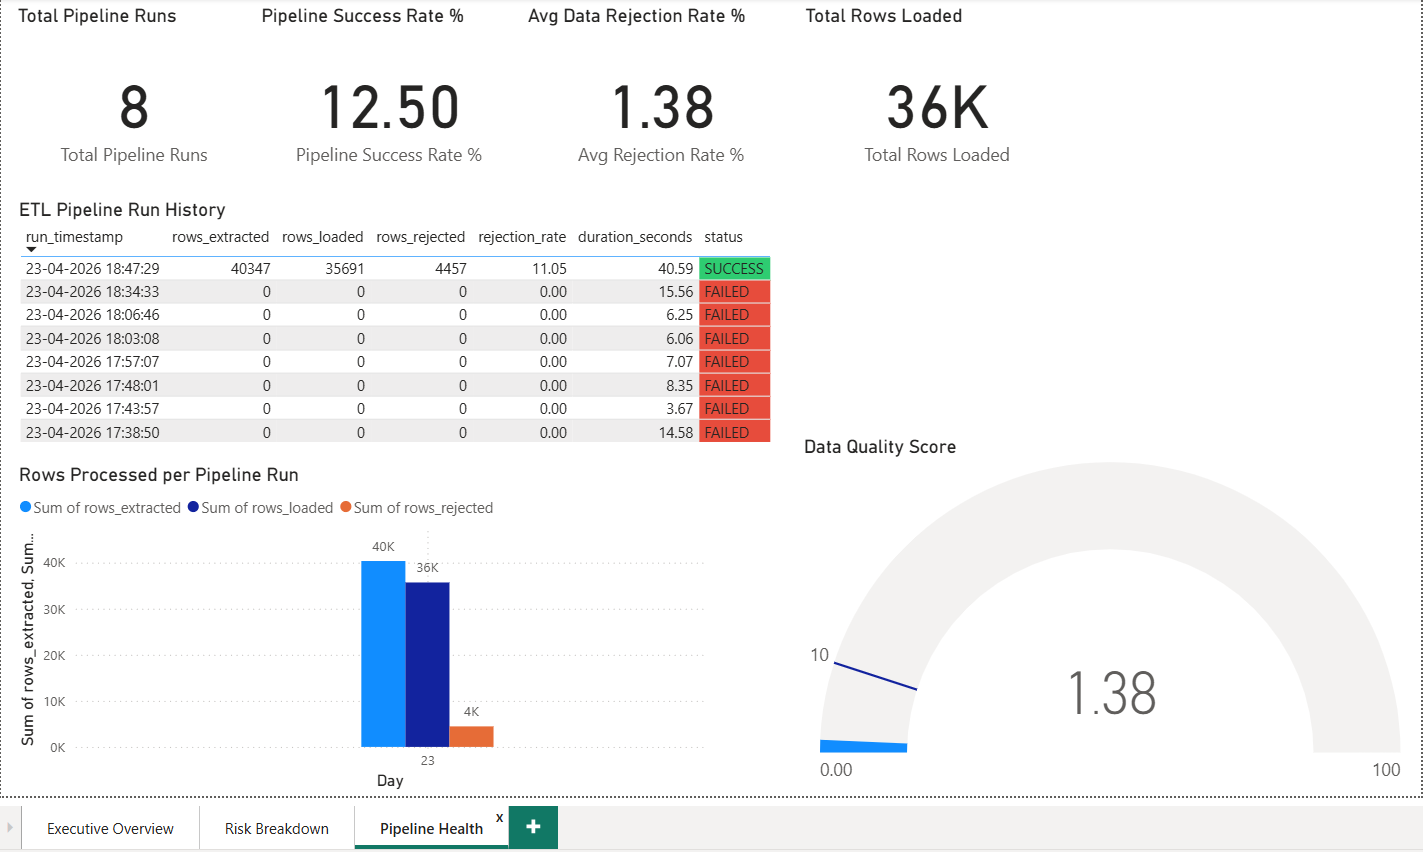

The page's visual inventory and layout, read from the dashboard file:
{"tool":"powerbi","page":{"name":"Pipeline Health","canvas":[1280,720],"ordinal":2},"visuals":[{"type":"card","title":"Total Pipeline Runs","fields":{"Values":["production etl_pipeline_log.Total Pipeline Runs"]},"box":[9.8,6.1,220.1,173.6],"z":0},{"type":"card","title":"Pipeline Success Rate %","fields":{"Values":["production etl_pipeline_log.Pipeline Success Rate %"]},"box":[229.9,6.1,239.7,173.6],"z":1000},{"type":"card","title":"Avg Data Rejection Rate %","fields":{"Values":["production etl_pipeline_log.Avg Rejection Rate %"]},"box":[469.6,6.1,250.7,173.6],"z":2000},{"type":"card","title":"Total Rows Loaded","fields":{"Values":["production etl_pipeline_log.Total Rows Loaded"]},"box":[720.2,6.1,248.2,173.6],"z":3000},{"type":"tableEx","title":"ETL Pipeline Run History","fields":{"Values":["production etl_pipeline_log.run_timestamp","production etl_pipeline_log.rows_extracted","production etl_pipeline_log.rows_loaded","production etl_pipeline_log.rows_rejected","production etl_pipeline_log.rejection_rate","production etl_pipeline_log.duration_seconds","production etl_pipeline_log.status"]},"box":[11.4,179.8,1253.2,239.8],"z":4000},{"type":"clusteredColumnChart","title":"Rows Processed per Pipeline Run","fields":{"Category":["production etl_pipeline_log.run_timestamp.Variation.Date Hierarchy.Day"],"Y":["Sum(production etl_pipeline_log.rows_extracted)","Sum(production etl_pipeline_log.rows_loaded)","Sum(production etl_pipeline_log.rows_rejected)"]},"box":[11.4,419.6,628,299.7],"z":4001},{"type":"gauge","title":"Data Quality Score","fields":{"Y":["production etl_pipeline_log.Avg Rejection Rate %"],"MaxValue":["production admissions.Max Value"],"TargetValue":["production admissions.Target Rejection Rate"]},"box":[719.4,393.9,548.1,322.6],"z":4002}]}

Visuals, with their boxes on the page's 1280x720 design canvas (x1, y1, x2, y2). These are canvas units, not pixel positions in the 1423x852 screenshot, which may show the page scaled, cropped or inside an application window:
"Total Pipeline Runs" card: pyautogui.locateOnScreen(10, 6, 230, 180)
"Pipeline Success Rate %" card: pyautogui.locateOnScreen(230, 6, 470, 180)
"Avg Data Rejection Rate %" card: pyautogui.locateOnScreen(470, 6, 720, 180)
"Total Rows Loaded" card: pyautogui.locateOnScreen(720, 6, 968, 180)
"ETL Pipeline Run History" tableEx: pyautogui.locateOnScreen(11, 180, 1265, 420)
"Rows Processed per Pipeline Run" clusteredColumnChart: pyautogui.locateOnScreen(11, 420, 639, 719)
"Data Quality Score" gauge: pyautogui.locateOnScreen(719, 394, 1268, 716)
